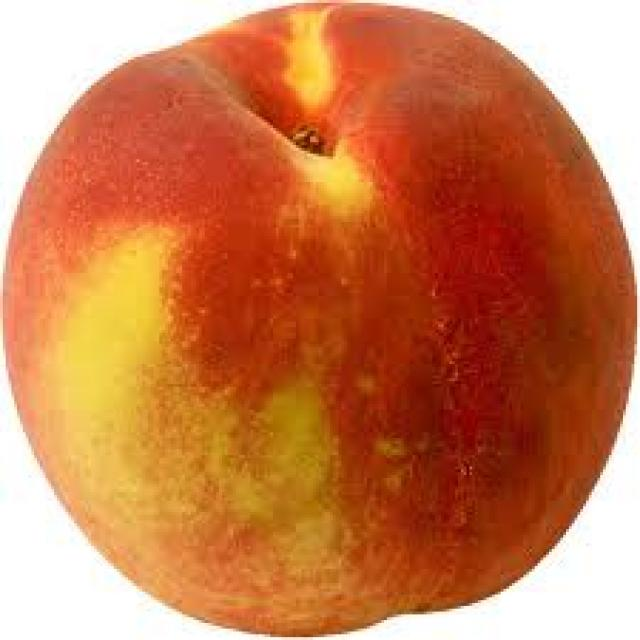pach: (0, 0, 637, 634)
